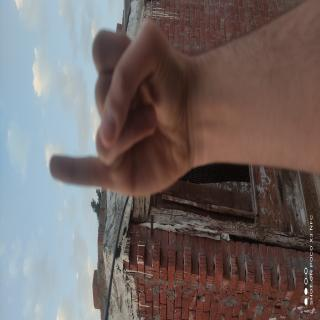MEEM: (50, 103, 139, 320)
